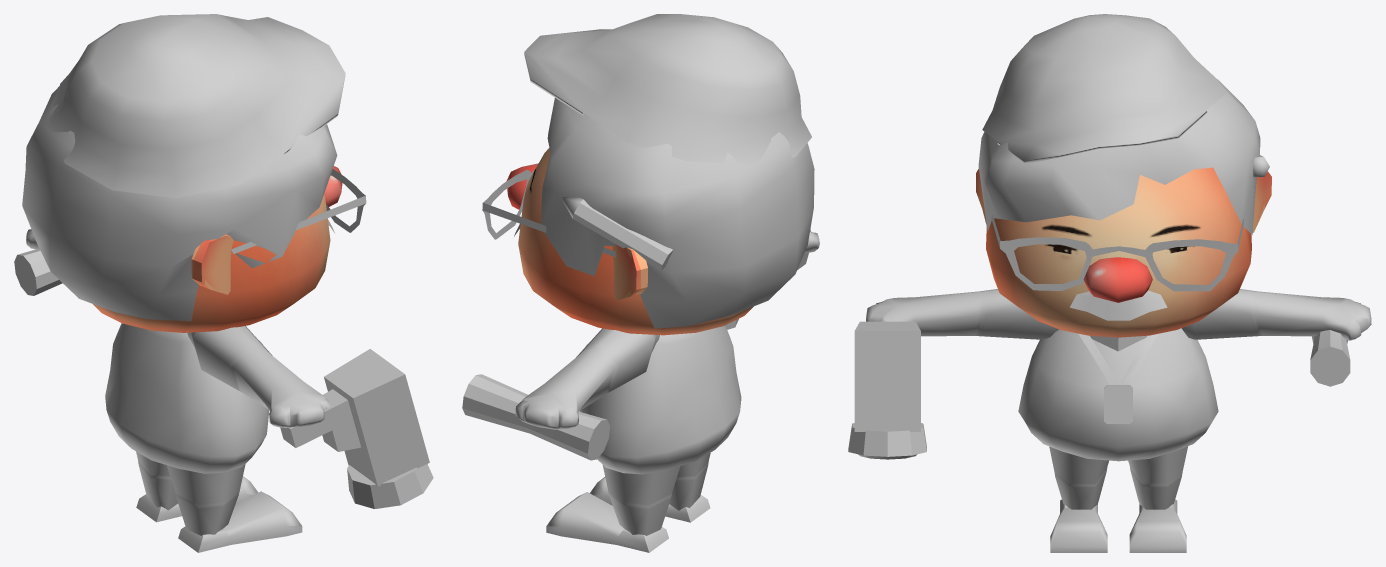
File: Char_Cre_Ent_04.fbx
3 renders of one model, left to right at view 1: azimuth 30°, elevation 25°; view 2: azimuth 150°, elevation 25°; view 3: azimuth 270°, elevation 25°, orthographic. The views are drawn at different scales.
Parts seen in each view (by area): view 1: Hat_Director, Hair_Director, Body_Director, Camera_Director, Head_Director, R_Leg_Director, R_Arm_Director, L_Leg_Director, R_Ear_Director, Paper_Director, Spectacle_Director; view 2: Hair_Director, Hat_Director, Body_Director, Head_Director, L_Leg_Director, L_Arm_Director, Paper_Director, Pen_Director, R_Leg_Director, L_Ear_Director, Spectacle_Director, Nose_Director; view 3: Hat_Director, Head_Director, Body_Director, Hair_Director, Camera_Director, L_Arm_Director, R_Arm_Director, L_Leg_Director, R_Leg_Director, Spectacle_Director, Nose_Director, Nametag_Director (+3 smaller).
Boxes of the visible parts, x1,y1,x2,y2 form: Hat_Director: (47, 14, 345, 197); Hair_Director: (22, 86, 337, 321); Body_Director: (105, 323, 269, 473); Camera_Director: (280, 349, 433, 508); Head_Director: (93, 194, 330, 332); R_Leg_Director: (167, 464, 302, 552); R_Arm_Director: (187, 326, 330, 427); L_Leg_Director: (136, 451, 257, 522); R_Ear_Director: (191, 234, 233, 294); Paper_Director: (14, 249, 62, 295); Spectacle_Director: (231, 169, 366, 254); Hair_Director: (541, 98, 814, 328); Hat_Director: (524, 14, 811, 165); Body_Director: (579, 325, 741, 474); Head_Director: (518, 148, 753, 335); L_Leg_Director: (546, 465, 680, 552); L_Arm_Director: (515, 328, 659, 429); Paper_Director: (462, 374, 610, 460); Pen_Director: (560, 197, 672, 270); R_Leg_Director: (590, 453, 710, 522); L_Ear_Director: (612, 244, 647, 300); Spectacle_Director: (482, 169, 615, 257); Nose_Director: (506, 163, 538, 209); Hat_Director: (982, 14, 1226, 163); Head_Director: (986, 167, 1251, 337); Body_Director: (1018, 328, 1218, 461); Hair_Director: (978, 79, 1260, 234); Camera_Director: (848, 321, 926, 459); L_Arm_Director: (1181, 289, 1371, 340); R_Arm_Director: (866, 289, 1059, 339); L_Leg_Director: (1128, 446, 1187, 552); R_Leg_Director: (1049, 446, 1108, 552); Spectacle_Director: (991, 215, 1243, 291); Nose_Director: (1083, 257, 1152, 302); Nametag_Director: (1078, 333, 1158, 423).
Size of the model in its own units: 4.83 by 7.94 by 7.84.
